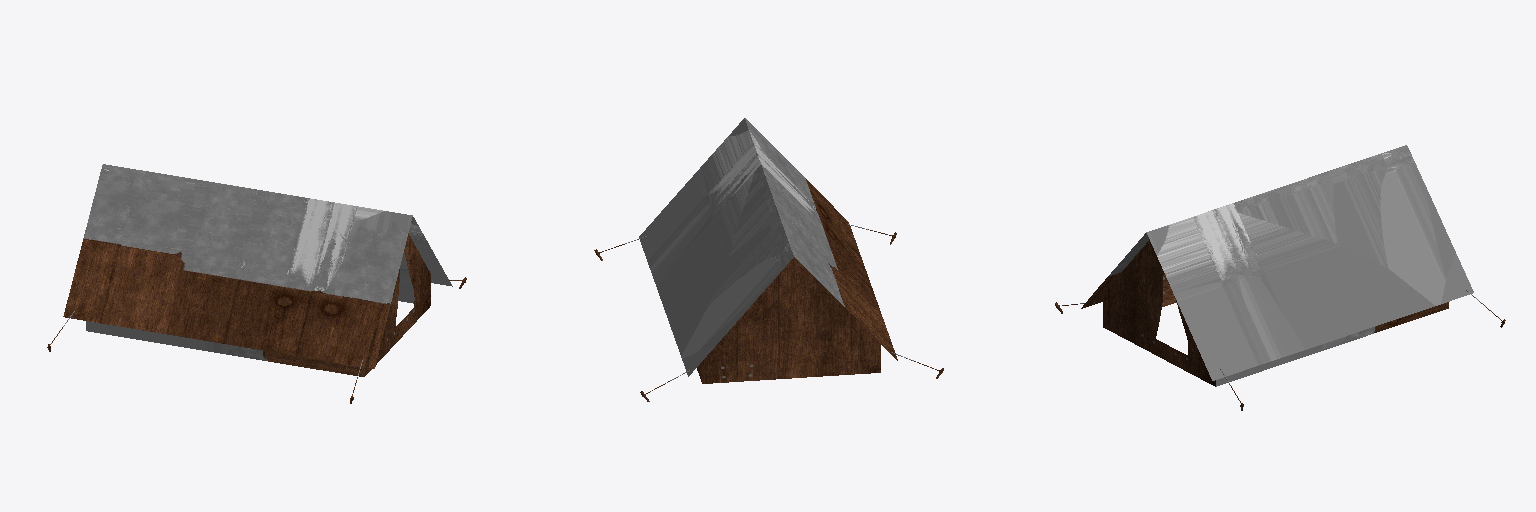
3 views of the same model, side by side, from view 1: azimuth 30°, elevation 25°; view 2: azimuth 150°, elevation 25°; view 3: azimuth 270°, elevation 25° (orthographic).
Visible parts, largest first — view 1: campfire.001; view 2: campfire.001; view 3: campfire.001.
Part boxes in pixels (x1,y1,x2,y2): campfire.001: (47,164,466,403); campfire.001: (594,118,943,401); campfire.001: (1055,145,1505,410).
Size of the model in its own units: 3.85 by 1.29 by 3.91.
Materials: 1 (1 with a texture image).